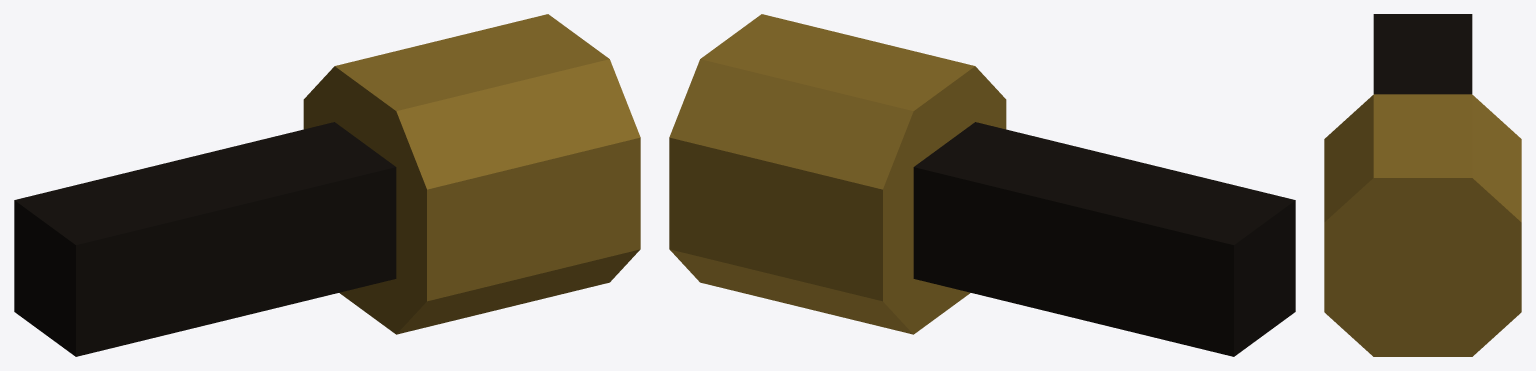
File: launcher.obj
3 renders of one model, left to right at view 1: azimuth 30°, elevation 25°; view 2: azimuth 150°, elevation 25°; view 3: azimuth 270°, elevation 25°, orthographic. The views are drawn at different scales.
Visible parts, largest first — view 1: entity0_brush1, entity0_brush0; view 2: entity0_brush1, entity0_brush0; view 3: entity0_brush1, entity0_brush0.
Part boxes in pixels (x1,y1,x2,y2): entity0_brush1: (303, 14, 640, 334); entity0_brush0: (14, 122, 396, 356); entity0_brush1: (669, 14, 1006, 334); entity0_brush0: (913, 122, 1295, 356); entity0_brush1: (1324, 94, 1521, 356); entity0_brush0: (1373, 14, 1472, 94).
Bounding box in the file's own units: 160 × 64 × 64.
Materials: 2 (2 with a texture image).
